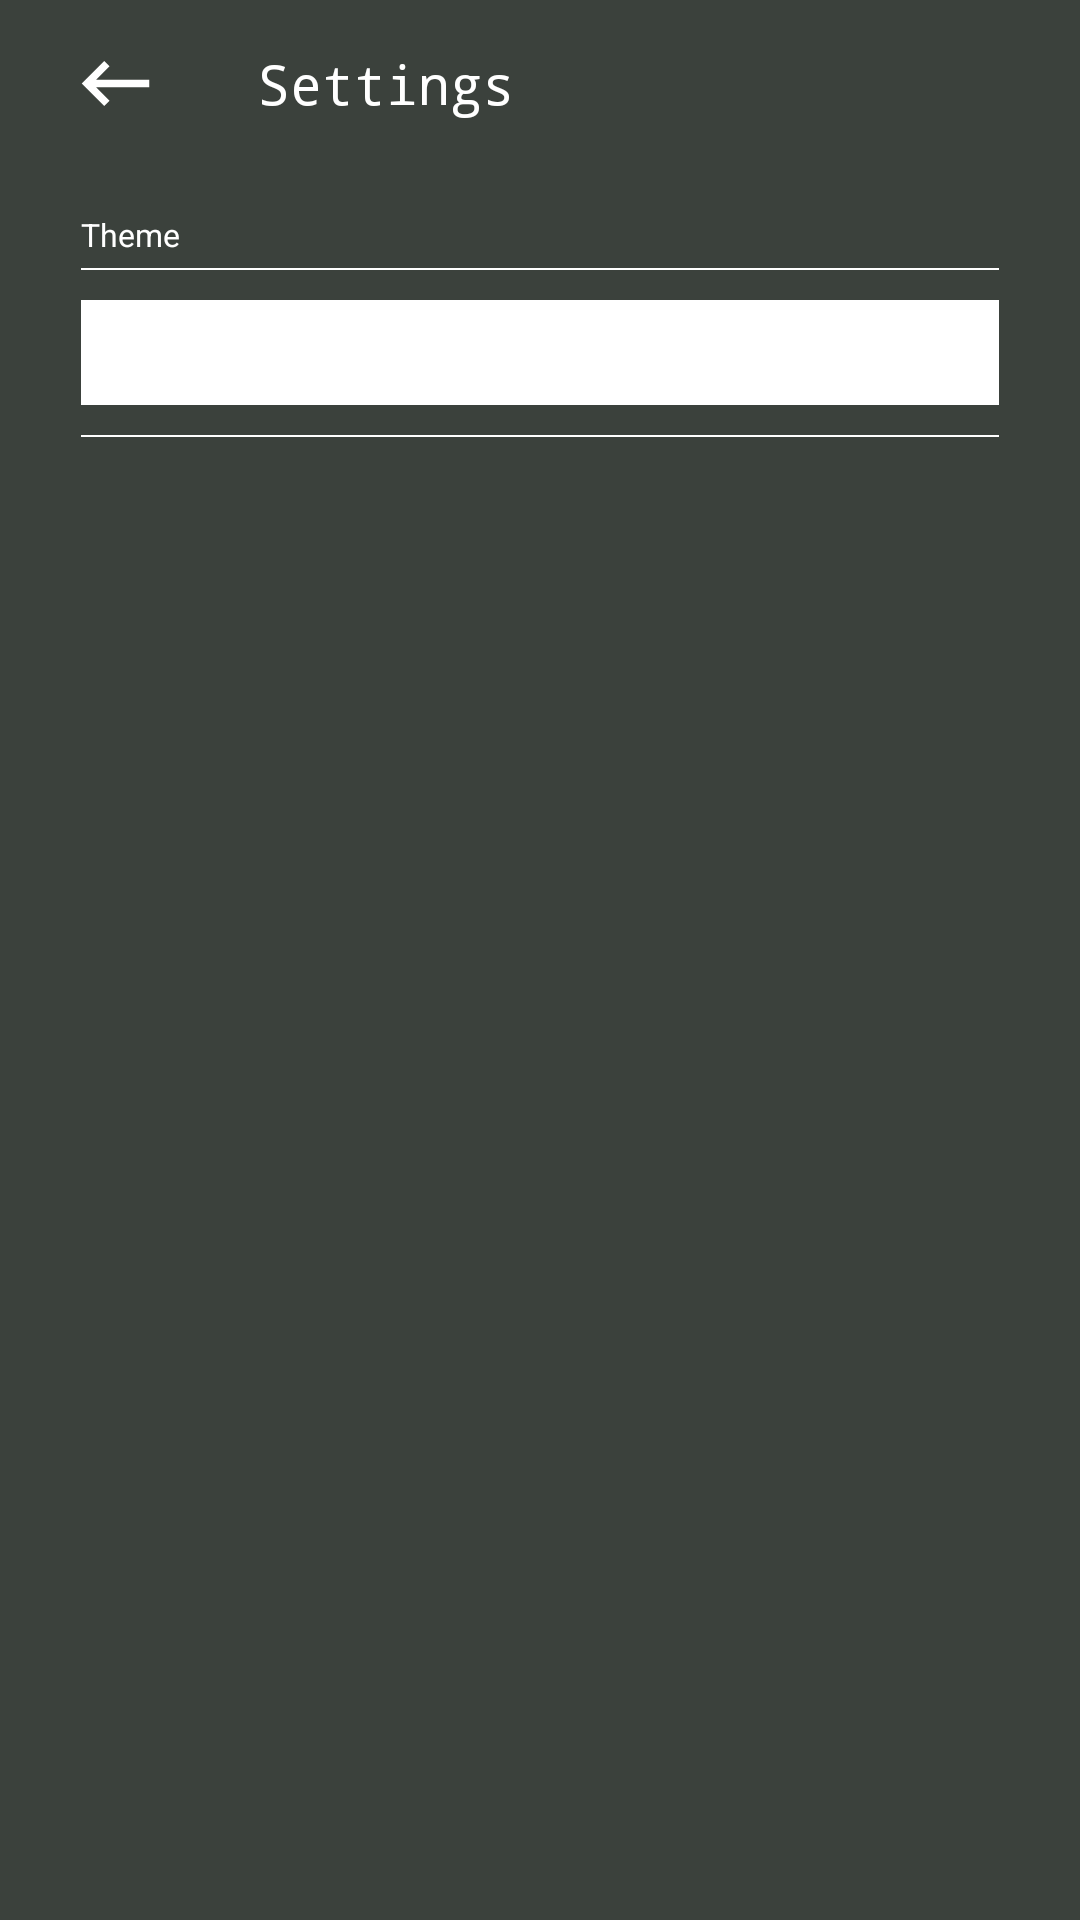

Where icons sit on this 1080x1920 app screen, as (x1, y1, x2, y2):
back: (82, 61, 150, 106)
